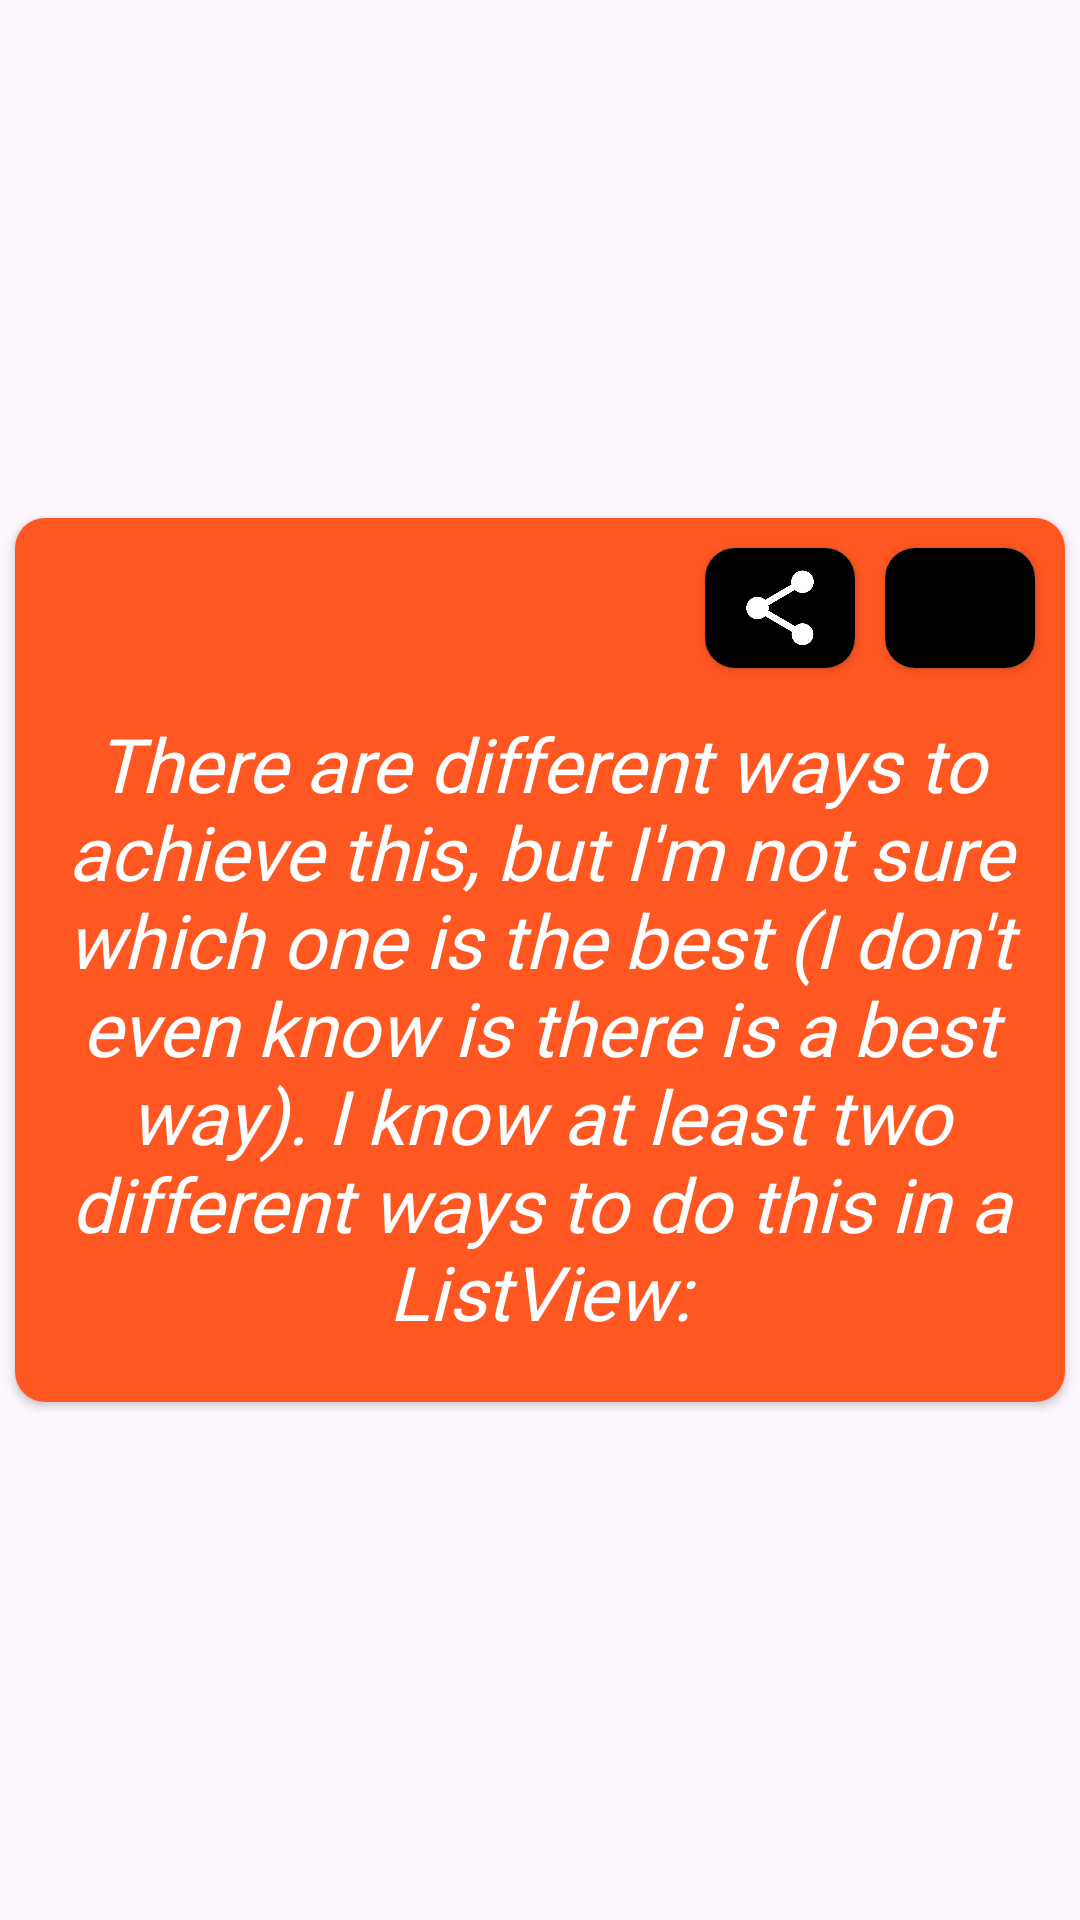

Where icons sit on this 1080x1920 app screen, as bbox=[x1, y1, x2, y2]:
share: bbox=[705, 548, 855, 668]
